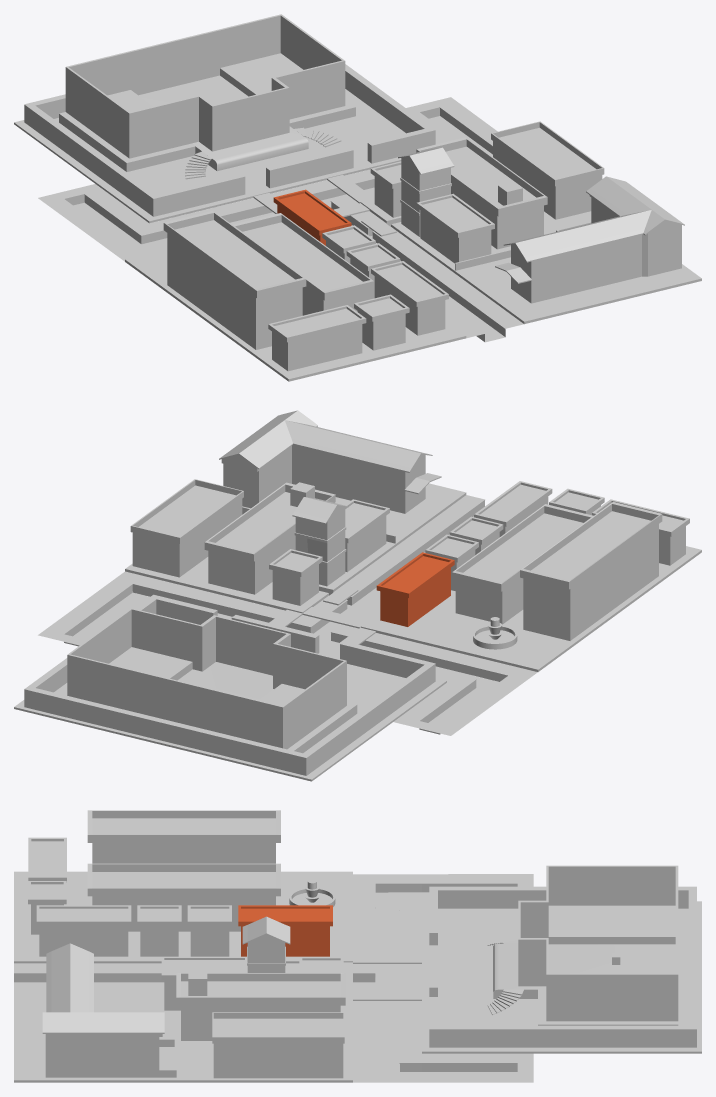
The model's file is Mapa Mascara Hotel.fbx.
3 views of the same model, one above another, from view 1: azimuth 30°, elevation 25°; view 2: azimuth 150°, elevation 25°; view 3: azimuth 270°, elevation 25° (orthographic). The views are drawn at different scales.
Visible parts, largest first — view 1: Cube.067, Plane.015, Cube.024, Cube.066, Plane.014, Plane.017, Cube.028, Cube.065, Cube.025, Cube.027, Cube.026, Cube.034 (+18 smaller); view 2: Cube.067, Plane.015, Cube.066, Cube.024, Plane.017, Cube.026, Cube.028, Cube.027, Cube.025, Cube.034, Plane.014, Cube.021 (+17 smaller); view 3: Plane.015, Cube.067, Plane.017, Plane.014, Cube.066, Cube.024, Cube.026, Cube.027, Cube.025, Cube.065, Cube.034, Cube.028 (+18 smaller).
Boxes of the visible parts, x1,y1,x2,y2 form: Cube.067: (65,14,345,158); Plane.015: (125,198,701,381); Cube.024: (163,211,306,349); Cube.066: (24,64,435,216); Plane.014: (14,89,439,223); Plane.017: (38,97,497,261); Cube.028: (511,197,681,303); Cube.065: (59,75,355,171); Cube.025: (416,137,547,249); Cube.027: (491,121,604,219); Cube.026: (232,213,373,315); Cube.034: (503,176,684,262); Cube.067: (67,608,346,749); Plane.015: (125,483,701,671); Cube.066: (24,594,435,775); Cube.024: (520,502,662,640); Plane.017: (38,571,537,735); Cube.026: (452,504,593,624); Cube.028: (223,447,425,513); Cube.027: (130,479,243,577); Cube.025: (204,482,335,594); Cube.034: (219,410,432,472); Plane.014: (14,649,446,781); Cube.021: (376,552,454,626); Plane.015: (14,871,352,1082); Cube.067: (518,865,678,1021); Plane.017: (353,874,533,1082); Plane.014: (422,901,701,1053); Cube.066: (429,886,696,1047); Cube.024: (87,810,280,863); Cube.026: (87,863,280,931); Cube.027: (212,1012,344,1078); Cube.025: (176,971,345,1040); Cube.065: (493,943,678,1025); Cube.034: (42,943,164,1033); Cube.028: (45,1037,159,1077).
Bounding box in the file's own units: 11713 × 2520 × 16320.
